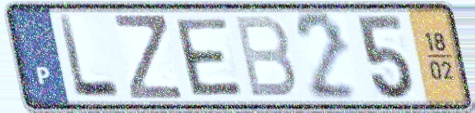2: (293, 8, 365, 106)
5: (353, 12, 416, 103)
B: (231, 13, 300, 100)
E: (171, 15, 247, 98)
L: (55, 13, 124, 101)
Z: (111, 12, 187, 102)
